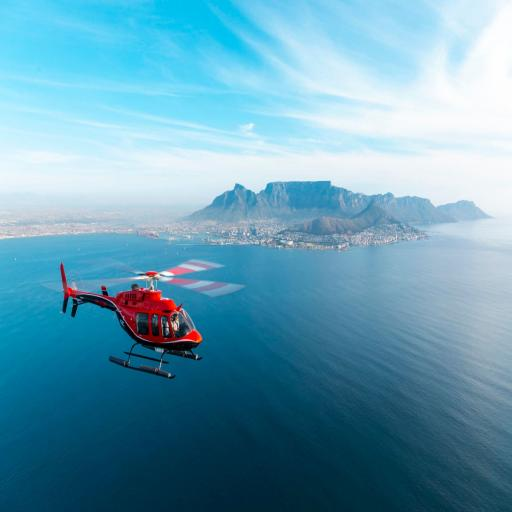helicopter: (56, 244, 222, 385)
